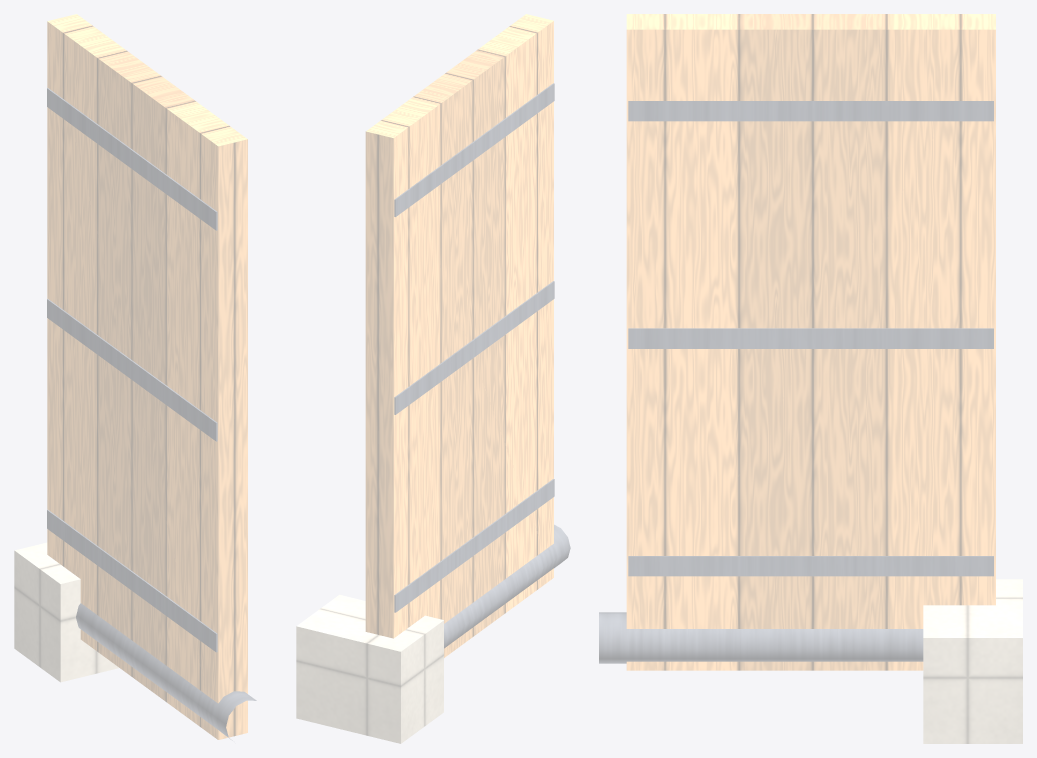
File: level.gltf
3 views of the same model, side by side, from view 1: azimuth 30°, elevation 25°; view 2: azimuth 150°, elevation 25°; view 3: azimuth 270°, elevation 25° (orthographic). The views are drawn at different scales.
Visible parts, largest first — view 1: P_Modul_25_Bridge, P_Modul_25_Hinge; view 2: P_Modul_25_Bridge, P_Modul_25_Hinge; view 3: P_Modul_25_Bridge, P_Modul_25_Hinge.
Boxes of the visible parts, x1,y1,x2,y2 form: P_Modul_25_Bridge: [47, 14, 247, 739]; P_Modul_25_Hinge: [14, 542, 256, 740]; P_Modul_25_Bridge: [365, 14, 554, 657]; P_Modul_25_Hinge: [296, 524, 570, 743]; P_Modul_25_Bridge: [626, 14, 995, 670]; P_Modul_25_Hinge: [599, 579, 1022, 743].
Size of the model in its own units: 1.88 by 10.18 by 5.74.
Materials: 3 (3 with a texture image).
